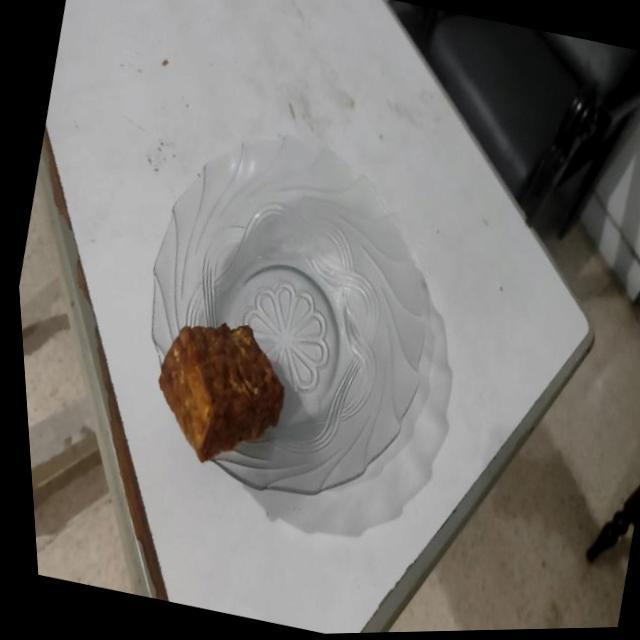tempe_goreng: (158, 324, 284, 462)
